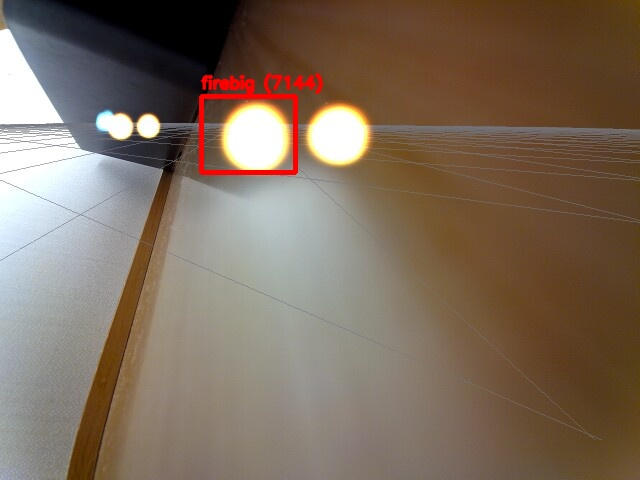firebig: (201, 96, 295, 172)
